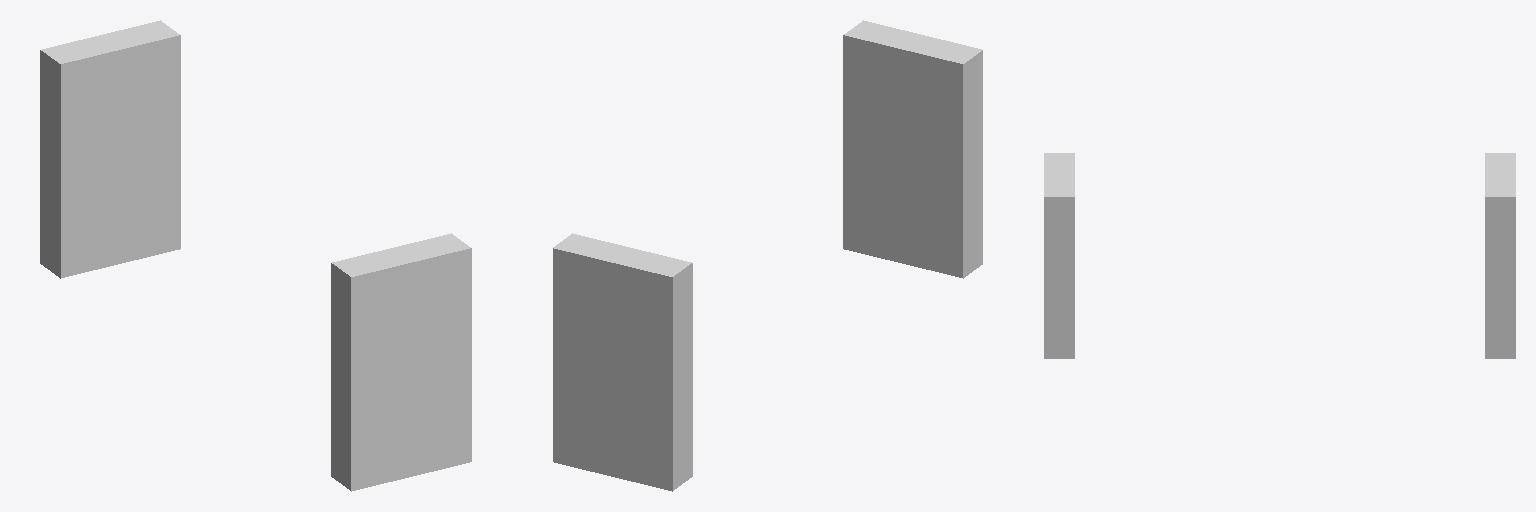
URDF robot description (xarm6):
<?xml version="1.0" encoding="utf-8"?>

<robot name="xarm6">
  <link name="world"/>
  <joint name="world_joint" type="fixed">
    <parent link="world"/>
    <child link="link_base"/>
    <origin rpy="0 0 0" xyz="0 0 0"/>
  </joint>
 
  <material name="Black">
    <color rgba="0.0 0.0 0.0 1.0"/>
  </material>
  <material name="Red">
    <color rgba="0.8 0.0 0.0 1.0"/>
  </material>
  <material name="White">
    <color rgba="1.0 1.0 1.0 1.0"/>
  </material>
  <material name="Silver">
    <color rgba="0.753 0.753 0.753 1.0"/>
  </material>
  <material name="MaterialFromMTL">
    <color rgba="0.8 0.8 0.8 1.0"/>
    <specular rgb="0.8 0.8 0.8"/>
    <ambient rgb="0.8 0.8 0.8"/>
    <diffuse rgb="0.8 0.8 0.8"/>
  </material>
  <material name="MaterialFromMTL2">
    <color rgba="0.8 0.8 0.8 1.0"/>
    <specular rgb="0.5 0.5 0.5"/>
    <ambient rgb="1.0 1.0 1.0"/>
    <diffuse rgb="0.8 0.8 0.8"/>
  </material>
  
  <link name="link_base">
    <visual>
      <geometry>
        <mesh filename="visual/base.stl"/>
      </geometry>
      <origin rpy="0 0 0" xyz="0 0 0"/>
      <material name="MaterialFromMTL"/>
    </visual>
    <collision>
      <geometry>
        <mesh filename="collision/base_vhacd.obj"/>
      </geometry>
      <origin rpy="0 0 0" xyz="0 0 0"/>
    </collision>
    <inertial>
      <origin rpy="0 0 0" xyz="0.0 0.0 0.09103"/>
      <mass value="2.7"/>
      <inertia ixx="0.00494875" ixy="-3.5E-06" ixz="1.25E-05" iyy="0.00494174" iyz="1.67E-06" izz="0.002219"/>
    </inertial>
  </link>
 
  <link name="link1">
    <visual>
      <geometry>
        <mesh filename="visual/link1.stl"/>
      </geometry>
      <origin rpy="0 0 0" xyz="0 0 0"/>
      <material name="MaterialFromMTL"/>
    </visual>
    <collision>
      <geometry>
        <mesh filename="collision/link1_vhacd.obj"/>
      </geometry>
      <origin rpy="0 0 0" xyz="0 0 0"/>
    </collision>
    <inertial>
      <origin rpy="0 0 0" xyz="-0.002 0.02692 -0.01332"/>
      <mass value="2.16"/>
      <inertia ixx="0.00539427" ixy="1.095E-05" ixz="1.635E-06" iyy="0.0048979" iyz="0.000793" izz="0.00311573"/>
    </inertial>
  </link>

  <joint name="joint1" type="revolute">
    <safety_controller k_position="100.0" k_velocity="40.0" soft_lower_limit="-6.28318530718" soft_upper_limit="6.28318530718"/>
    <parent link="link_base"/>
    <child link="link1"/>
    <origin rpy="0 0 0" xyz="0 0 0.267"/>
    <axis xyz="0 0 1"/>
    <limit effort="50.0" lower="-6.28318530718" upper="6.28318530718" velocity="3.14"/>
    <dynamics damping="1.0" friction="1.0"/>
  </joint>
  
  <link name="link2">
    <visual>
      <geometry>
        <mesh filename="visual/link2.stl"/>
      </geometry>
      <origin rpy="0 0 0" xyz="0 0 0"/>
      <material name="MaterialFromMTL"/>
    </visual>
    <collision>
      <geometry>
        <mesh filename="collision/link2_vhacd2.obj"/>
      </geometry>
      <origin rpy="0 0 0" xyz="0 0 0"/>
    </collision>
    <inertial>
      <origin rpy="0 0 0" xyz="0.03531 -0.21398 0.03386"/>
      <mass value="1.71"/>
      <inertia ixx="0.0248674" ixy="-0.00430651" ixz="-0.00067797" iyy="0.00485548" iyz="0.00457245" izz="0.02387827"/>
    </inertial>
  </link>
  
  <joint name="joint2" type="revolute">
    <safety_controller k_position="100.0" k_velocity="40.0" soft_lower_limit="-2.059" soft_upper_limit="2.059"/>
    <parent link="link1"/>
    <child link="link2"/>
    <origin rpy="-1.5708 0 0" xyz="0 0 0"/>
    <axis xyz="0 0 1"/>
    <limit effort="50.0" lower="-2.059" upper="2.0944" velocity="3.14"/>
    <dynamics damping="1.0" friction="1.0"/>
  </joint>
  
  <link name="link3">
    <visual>
      <geometry>
        <mesh filename="visual/link3.stl"/>
      </geometry>
      <origin rpy="0 0 0" xyz="0 0 0"/>
      <material name="MaterialFromMTL"/>
    </visual>
    <collision>
      <geometry>
        <mesh filename="collision/link3_vhacd.obj"/>
      </geometry>
      <origin rpy="0 0 0" xyz="0 0 0"/>
    </collision>
    <inertial>
      <origin rpy="0 0 0" xyz="0.06781 0.10749 0.01457"/>
      <mass value="1.384"/>
      <inertia ixx="0.0053694" ixy="0.0014185" ixz="-0.00092094" iyy="0.0032423" iyz="-0.00169178" izz="0.00501731"/>
    </inertial>
  </link>
  
  <joint name="joint3" type="revolute">
    <safety_controller k_position="100.0" k_velocity="40.0" soft_lower_limit="-3.8" soft_upper_limit="0.19198"/>
    <parent link="link2"/>
    <child link="link3"/>
    <origin rpy="0 0 0" xyz="0.0535 -0.2845 0"/>
    <axis xyz="0 0 1"/>
    <limit effort="32.0" lower="-3.8" upper="0.19198" velocity="3.14"/>
    <dynamics damping="1.0" friction="1.0"/>
  </joint>
  
  <link name="link4">
    <visual>
      <geometry>
        <mesh filename="visual/link4.stl"/>
      </geometry>
      <origin rpy="0 0 0" xyz="0 0 0"/>
      <material name="MaterialFromMTL"/>
    </visual>
    <collision>
      <geometry>
        <mesh filename="collision/link4_vhacd.obj"/>
      </geometry>
      <origin rpy="0 0 0" xyz="0 0 0"/>
    </collision>
    <inertial>
      <origin rpy="0 0 0" xyz="-0.00021 0.02578 -0.02538"/>
      <mass value="1.115"/>
      <inertia ixx="0.00439263" ixy="5.028E-05" ixz="1.374E-05" iyy="0.0040077" iyz="0.00045338" izz="0.00110321"/>
    </inertial>
  </link>
  
  <joint name="joint4" type="revolute">
    <safety_controller k_position="100.0" k_velocity="40.0" soft_lower_limit="-6.28318530718" soft_upper_limit="6.28318530718"/>
    <parent link="link3"/>
    <child link="link4"/>
    <origin rpy="-1.5708 0 0" xyz="0.0775 0.3425 0"/>
    <axis xyz="0 0 1"/>
    <limit effort="32.0" lower="-6.28318530718" upper="6.28318530718" velocity="3.14"/>
    <dynamics damping="1.0" friction="1.0"/>
  </joint>
  
  <link name="link5">
    <visual>
      <geometry>
        <mesh filename="visual/link5.stl"/>
      </geometry>
      <origin rpy="0 0 0" xyz="0 0 0"/>
      <material name="MaterialFromMTL"/>
    </visual>
    <collision>
      <geometry>
        <mesh filename="collision/link5_vhacd.obj"/>
      </geometry>
      <origin rpy="0 0 0" xyz="0 0 0"/>
    </collision>
    <inertial>
      <origin rpy="0 0 0" xyz="0.05428 0.01781 0.00543"/>
      <mass value="1.275"/>
      <inertia ixx="0.001202758" ixy="0.000492428" ixz="-0.00039147" iyy="0.0022876" iyz="-1.235E-04" izz="0.0026866"/>
    </inertial>
  </link>
  
  <joint name="joint5" type="revolute">
    <safety_controller k_position="100.0" k_velocity="40.0" soft_lower_limit="-1.69297" soft_upper_limit="3.14159265359"/>
    <parent link="link4"/>
    <child link="link5"/>
    <origin rpy="1.5708 0 0" xyz="0 0 0"/>
    <axis xyz="0 0 1"/>
    <limit effort="32.0" lower="-1.69297" upper="3.14159265359" velocity="3.14"/>
    <dynamics damping="1.0" friction="1.0"/>
  </joint>
  
  <link name="link6">
    <visual>
      <geometry>
        <mesh filename="visual/link6.stl"/>
      </geometry>
      <origin rpy="0 0 0" xyz="0 0 0"/>
      <material name="Silver"/>
    </visual>
    <collision>
      <geometry>
        <mesh filename="visual/link6.stl"/>
      </geometry>
      <origin rpy="0 0 0" xyz="0 0 0"/>
    </collision>
    <inertial>
      <origin rpy="0 0 0" xyz="0 0.00064 -0.00952"/>
      <mass value="0.1096"/>
      <inertia ixx="4.5293E-05" ixy="0" ixz="0" iyy="4.8111E-05" iyz="0" izz="7.9715E-05"/>
    </inertial>
  </link>
  
  <joint name="joint6" type="revolute">
    <safety_controller k_position="100.0" k_velocity="40.0" soft_lower_limit="-6.28318530718" soft_upper_limit="6.28318530718"/>
    <parent link="link5"/>
    <child link="link6"/>
    <origin rpy="-1.5708 0 0" xyz="0.076 0.097 0"/>
    <axis xyz="0 0 1"/>
    <limit effort="20.0" lower="-6.28318530718" upper="6.28318530718" velocity="3.14"/>
    <dynamics damping="1.0" friction="1.0"/>
  </joint>
  
  <link name="camera_link" />
  <joint name="camera_link_joint" type="fixed">
    <parent link="link6"/>
    <child link="camera_link"/>
    <origin xyz="0.05 0 0" rpy="3.141592653589793 -0.0 1.5707963267948966"/>
  </joint>


  <joint name="gripper_fix" type="fixed">
    <parent link="link6"/>
    <child link="robotiq_arg2f_base_link"/>
    <origin rpy="0 0 0" xyz="0 0 0"/>
  </joint>
  

  <link name="eef">
    <!-- <visual>
      <origin xyz="0 0 0" rpy="0 0 0"/>
      <geometry>
        <sphere radius="0.005"/>
      </geometry>
      <material name="red_transparent">
        <color rgba="1 0 0 0.5"/>
      </material>
    </visual> -->
  </link>

  <joint name="eef_joint" type="fixed">
    <parent link="robotiq_arg2f_base_link"/>
    <child link="eef"/>
    <origin xyz="0 0 0.15" rpy="0 0 0"/>
  </joint>

  <link name="robotiq_arg2f_base_link">
    <inertial>
      <origin rpy="0 0 0" xyz="8.625E-08 -4.6583E-06 0.03145"/>
      <mass value="0.22652"/>
      <inertia ixx="0.00020005" ixy="-4.2442E-10" ixz="-2.9069E-10" iyy="0.00017832" iyz="-3.4402E-08" izz="0.00013478"/>
    </inertial>
    <visual>
      <origin rpy="1.5708 0 0" xyz="0 0 0"/>  <!-- [author]: <origin rpy="0 0 0" xyz="0 0 0"/>-->
      <geometry>
        <mesh filename="meshes_robotiq/visual/robotiq_arg2f_85_base_link.dae" scale="0.001 0.001 0.001"/>
      </geometry>
      <material name="gray">
        <color rgba="0.1 0.1 0.1 1"/>
      </material>
    </visual>
    <collision>
      <origin rpy="0 0 0" xyz="0 0 0"/>  <!-- [author]: <origin rpy="0 0 0" xyz="0 0 0"/>-->
      <geometry>
        <mesh filename="meshes_robotiq/collision/robotiq_arg2f_base_link.stl"/>
      </geometry>
    </collision>
  </link>

  <link name="left_outer_knuckle">
    <!--<inertial>
        <origin xyz="-0.000200000000003065 0.0199435877845359 0.0292245259211331" rpy="0 0 0" />
        <mass value="0.00853198276973456" />
        <inertia ixx="2.89328108496468E-06" ixy="-1.57935047237397E-19" ixz="-1.93980378593255E-19" iyy="1.86719750325683E-06" iyz="-1.21858577871576E-06" izz="1.21905238907251E-06" />
        </inertial> -->
    <visual>
      <origin rpy="0 0 0" xyz="0 0 0"/>
      <geometry>
        <mesh filename="meshes_robotiq/visual/robotiq_arg2f_85_outer_knuckle.dae" scale="0.001 0.001 0.001"/>
      </geometry>
      <material name="outer_knuckle">
        <color rgba="0.792156862745098 0.819607843137255 0.933333333333333 1"/>
      </material>
    </visual>
    <collision>
      <origin rpy="0 0 0" xyz="0 0 0"/>
      <geometry>
        <mesh filename="meshes_robotiq/collision/robotiq_arg2f_85_outer_knuckle.dae" scale="0.001 0.001 0.001"/>
      </geometry>
    </collision>
  </link>

  <link name="left_outer_finger">
    <!--<inertial>
        <origin xyz="0.00030115855001899 0.0373907951953854 -0.0208027427000385" rpy="0 0 0" />
        <mass value="0.022614240507152" />
        <inertia ixx="1.52518312458174E-05" ixy="9.76583423954399E-10" ixz="-5.43838577022588E-10" iyy="6.17694243867776E-06" iyz="6.78636130740228E-06" izz="1.16494917907219E-05" />
        </inertial> -->
    <visual>
      <origin rpy="1.5708 0 0" xyz="0 0 0"/>
      <geometry>
        <mesh filename="meshes_robotiq/visual/robotiq_arg2f_85_outer_finger.dae" scale="0.001 0.001 0.001"/>
      </geometry>
      <material name="gray">
        <color rgba="0.1 0.1 0.1 1"/>
      </material>
    </visual>
    <collision>
      <origin rpy="0 0 0" xyz="0 0 0"/>
      <geometry>
        <mesh filename="meshes_robotiq/collision/robotiq_arg2f_85_outer_finger.dae" scale="0.001 0.001 0.001"/>
      </geometry>
    </collision>
  </link>

  <link name="left_inner_finger">
    <!--<inertial>
        <origin xyz="0.000299999999999317 0.0160078233491243 -0.0136945669206257" rpy="0 0 0" />
        <mass value="0.0104003125914103" />
        <inertia ixx="2.71909453810972E-06" ixy="1.35402465472579E-21" ixz="-7.1817349065269E-22" iyy="7.69100314106116E-07" iyz="6.74715432769696E-07" izz="2.30315190420171E-06" />
        </inertial> -->
    <visual>
      <origin rpy="1.5708  0 0" xyz="0 0 0"/>  <!-- [author]: <origin rpy="0 0 0" xyz="0 0 0"/>-->
      <geometry>
        <mesh filename="meshes_robotiq/visual/robotiq_arg2f_85_inner_finger.dae" scale="0.001 0.001 0.001"/>
      </geometry>
      <material name="gray">
        <color rgba="0.1 0.1 0.1 1"/>
      </material>
    </visual>
    <collision>
      <origin rpy="0  0 0" xyz="0 0 0"/><!-- [author]: <origin rpy="0 0 0" xyz="0 0 0"/>-->
      <geometry>
        <mesh filename="meshes_robotiq/collision/robotiq_arg2f_85_inner_finger.dae" scale="0.001 0.001 0.001"/>
      </geometry>
    </collision>
  </link>

  <link name="left_inner_finger_pad">
    <visual>
      <origin rpy="0 0 0" xyz="0 0 0"/>
      <geometry>
        <box size="0.022 0.00635 0.0375"/>
      </geometry>
      <material name="white">
        <color rgba="0.9 0.9 0.9 1"/>
      </material>
    </visual>
    <collision>
      <origin rpy="0 0 0" xyz="0 0 0"/>
      <geometry>
        <box size="0.022 0.00635 0.0375"/>
      </geometry>
    </collision>
  </link>

  <link name="left_inner_knuckle">
    <!--<inertial>
        <origin xyz="0.000123011831763771 0.0507850843201817 0.00103968640075166" rpy="0 0 0" />
       <mass value="0.0271177346495152" />
        <inertia ixx="2.61910379223783E-05" ixy="-2.43616858946494E-07" ixz="-6.37789906117123E-09" iyy="2.8270243746167E-06" iyz="-5.37200748039765E-07" izz="2.83695868220296E-05" />
        </inertial> -->
    <visual>
      <origin rpy="1.5708 0 0" xyz="0 0 0"/> 
      <geometry>
        <mesh filename="meshes_robotiq/visual/robotiq_arg2f_85_inner_knuckle.dae" scale="0.001 0.001 0.001"/>
      </geometry>
      <material name="gray">
        <color rgba="0.1 0.1 0.1 1"/>
      </material>
    </visual>
    <collision>
      <origin rpy="0 0 0" xyz="0 0 0"/>
      <geometry>
        <mesh filename="meshes_robotiq/collision/robotiq_arg2f_85_inner_knuckle.dae" scale="0.001 0.001 0.001"/>
      </geometry>
    </collision>
  </link>

  <link name="right_outer_knuckle">
    <!--<inertial>
        <origin xyz="-0.000200000000003065 0.0199435877845359 0.0292245259211331" rpy="0 0 0" />
        <mass value="0.00853198276973456" />
        <inertia ixx="2.89328108496468E-06" ixy="-1.57935047237397E-19" ixz="-1.93980378593255E-19" iyy="1.86719750325683E-06" iyz="-1.21858577871576E-06" izz="1.21905238907251E-06" />
        </inertial> -->
    <visual>
      <origin rpy="0 0 0" xyz="0 0 0"/>
      <geometry>
        <mesh filename="meshes_robotiq/visual/robotiq_arg2f_85_outer_knuckle.dae" scale="0.001 0.001 0.001"/>
      </geometry>
      <material name="">
        <color rgba="0.792156862745098 0.819607843137255 0.933333333333333 1"/>
      </material>
    </visual>
    <collision>
      <origin rpy="0 0 0" xyz="0 0 0"/>
      <geometry>
        <mesh filename="meshes_robotiq/collision/robotiq_arg2f_85_outer_knuckle.dae" scale="0.001 0.001 0.001"/>
      </geometry>
    </collision>
  </link>

  <link name="right_outer_finger">
    <!--<inertial>
        <origin xyz="0.00030115855001899 0.0373907951953854 -0.0208027427000385" rpy="0 0 0" />
        <mass value="0.022614240507152" />
        <inertia ixx="1.52518312458174E-05" ixy="9.76583423954399E-10" ixz="-5.43838577022588E-10" iyy="6.17694243867776E-06" iyz="6.78636130740228E-06" izz="1.16494917907219E-05" />
        </inertial> -->
    <visual>
      <origin rpy="1.5708 0 0" xyz="0 0 0"/>
      <geometry>
        <mesh filename="meshes_robotiq/visual/robotiq_arg2f_85_outer_finger.dae" scale="0.001 0.001 0.001"/>
      </geometry>
      <material name="gray">
        <color rgba="0.1 0.1 0.1 1"/>
      </material>
    </visual>
    <collision>
      <origin rpy="0 0 0" xyz="0 0 0"/>
      <geometry>
        <mesh filename="meshes_robotiq/collision/robotiq_arg2f_85_outer_finger.dae" scale="0.001 0.001 0.001"/>
      </geometry>
    </collision>
  </link>

  <link name="right_inner_finger">
    <!--<inertial>
        <origin xyz="0.000299999999999317 0.0160078233491243 -0.0136945669206257" rpy="0 0 0" />
        <mass value="0.0104003125914103" />
        <inertia ixx="2.71909453810972E-06" ixy="1.35402465472579E-21" ixz="-7.1817349065269E-22" iyy="7.69100314106116E-07" iyz="6.74715432769696E-07" izz="2.30315190420171E-06" />
        </inertial> -->
    <visual>
      <origin rpy="1.5708 0 0" xyz="0 0 0"/>
      <geometry>
        <mesh filename="meshes_robotiq/visual/robotiq_arg2f_85_inner_finger.dae" scale="0.001 0.001 0.001"/>
      </geometry>
      <material name="gray">
        <color rgba="0.1 0.1 0.1 1"/>
      </material>
    </visual>
    <collision>
      <origin rpy="0 0 0" xyz="0 0 0"/>
      <geometry>
        <mesh filename="meshes_robotiq/collision/robotiq_arg2f_85_inner_finger.dae" scale="0.001 0.001 0.001"/>
      </geometry>
    </collision>
  </link>

  <link name="right_inner_finger_pad">
    <visual>
      <origin rpy="0 0 0" xyz="0 0 0"/>
      <geometry>
        <box size="0.022 0.00635 0.0375"/>
      </geometry>
      <material name="white">
        <color rgba="0.9 0.9 0.9 1"/>
      </material>
    </visual>
    <collision>
      <origin rpy="0 0 0" xyz="0 0 0"/>
      <geometry>
        <box size="0.022 0.00635 0.0375"/>
      </geometry>
    </collision>
  </link>

  <link name="right_inner_knuckle">
    <!--<inertial>
        <origin xyz="0.000123011831763771 0.0507850843201817 0.00103968640075166" rpy="0 0 0" />
       <mass value="0.0271177346495152" />
        <inertia ixx="2.61910379223783E-05" ixy="-2.43616858946494E-07" ixz="-6.37789906117123E-09" iyy="2.8270243746167E-06" iyz="-5.37200748039765E-07" izz="2.83695868220296E-05" />
        </inertial> -->
    <visual>
      <origin rpy="1.5708 0 0" xyz="0 0 0"/>
      <geometry>
        <mesh filename="meshes_robotiq/visual/robotiq_arg2f_85_inner_knuckle.dae" scale="0.001 0.001 0.001"/>
      </geometry>
      <material name="gray">
        <color rgba="0.1 0.1 0.1 1"/>
      </material>
    </visual>
    <collision>
      <origin rpy="0 0 0" xyz="0 0 0"/>
      <geometry>
        <mesh filename="meshes_robotiq/collision/robotiq_arg2f_85_inner_knuckle.dae" scale="0.001 0.001 0.001"/>
      </geometry>
    </collision>
  </link>


   <!--[author]: I don't know if we need to modify the origin is 1.5708 0 0, but it works. -->

  <joint name="left_outer_knuckle_joint" type="revolute">
    <origin rpy="0 0 3.14159265359" xyz="0 -0.0306011 0.054904"/>
    <parent link="robotiq_arg2f_base_link"/>
    <child link="left_outer_knuckle"/>
    <axis xyz="1 0 0"/>
    <limit effort="1000" lower="0" upper="0.81" velocity="2.0"/>
  </joint>

  <joint name="left_outer_finger_joint" type="fixed">
    <origin rpy="0 0 0" xyz="0 0.0315 -0.0041"/>
    <parent link="left_outer_knuckle"/>
    <child link="left_outer_finger"/>
    <axis xyz="1 0 0"/>
  </joint>
  
  <joint name="left_inner_knuckle_joint" type="revolute">
    <origin rpy="0 0 3.14159265359" xyz="0 -0.0127 0.06142"/>
    <parent link="robotiq_arg2f_base_link"/>
    <child link="left_inner_knuckle"/>
    <axis xyz="1 0 0"/>
    <limit effort="1000" lower="0" upper="0.8757" velocity="2.0"/>
  </joint>
  
  <joint name="left_inner_finger_joint" type="revolute">
    <origin rpy="0 0 0" xyz="0 0.0061 0.0471"/>
    <parent link="left_outer_finger"/>
    <child link="left_inner_finger"/>
    <axis xyz="1 0 0"/>
    <limit effort="1000" lower="-0.8757" upper="0" velocity="2.0"/>
  </joint>
  
  <joint name="left_inner_finger_pad_joint" type="fixed">
    <origin rpy="0 0 0" xyz="0 -0.0220203446692936 0.03242"/>
    <parent link="left_inner_finger"/>
    <child link="left_inner_finger_pad"/>
    <axis xyz="0 0 1"/>
  </joint>
  
  <joint name="right_outer_knuckle_joint" type="revolute">
    <origin rpy="0 0 0" xyz="0 0.0306011 0.054904"/>
    <parent link="robotiq_arg2f_base_link"/>
    <child link="right_outer_knuckle"/>
    <axis xyz="1 0 0"/>
    <limit effort="1000" lower="0" upper="0.81" velocity="2.0"/>
  </joint>
  
  <joint name="right_outer_finger_joint" type="fixed">
    <origin rpy="0 0 0" xyz="0 0.0315 -0.0041"/>
    <parent link="right_outer_knuckle"/>
    <child link="right_outer_finger"/>
    <axis xyz="1 0 0"/>
  </joint>
  
  <joint name="right_inner_knuckle_joint" type="revolute">
    <origin rpy="0 0 0.0" xyz="0 0.0127 0.06142"/>
    <parent link="robotiq_arg2f_base_link"/>
    <child link="right_inner_knuckle"/>
    <axis xyz="1 0 0"/>
    <limit effort="1000" lower="0" upper="0.8757" velocity="2.0"/>
  </joint>
  
  <joint name="right_inner_finger_joint" type="revolute">
    <origin rpy="0 0 0" xyz="0 0.0061 0.0471"/>
    <parent link="right_outer_finger"/>
    <child link="right_inner_finger"/>
    <axis xyz="1 0 0"/>
    <limit effort="1000" lower="-0.8757" upper="0" velocity="2.0"/>
  </joint>
  
  <joint name="right_inner_finger_pad_joint" type="fixed">
    <origin rpy="0 0 0" xyz="0 -0.0220203446692936 0.03242"/>
    <parent link="right_inner_finger"/>
    <child link="right_inner_finger_pad"/>
    <axis xyz="0 0 1"/>
  </joint>

</robot>

--- What the picture shows (computed from the rendered views, not written in the file) ---
The picture shows the robot from 3 angles, left to right: view 1: azimuth 30°, elevation 25°; view 2: azimuth 150°, elevation 25°; view 3: azimuth 270°, elevation 25°; orthographic projection.
Model xarm6 with 21 links and 20 joints (12 revolute, 8 fixed), rooted at world, posed all joints at 0.
Visible links, largest first — view 1: left_inner_finger_pad, right_inner_finger_pad; view 2: left_inner_finger_pad, right_inner_finger_pad; view 3: left_inner_finger_pad, right_inner_finger_pad.
Link boxes in pixels (left/top/right/bottom): left_inner_finger_pad: left=40, top=20, right=180, bottom=278; right_inner_finger_pad: left=331, top=233, right=471, bottom=491; left_inner_finger_pad: left=553, top=233, right=692, bottom=491; right_inner_finger_pad: left=843, top=20, right=982, bottom=278; left_inner_finger_pad: left=1485, top=153, right=1515, bottom=358; right_inner_finger_pad: left=1044, top=153, right=1074, bottom=358.
Size in the robot's own frame: 0.022 by 0.0987 by 0.0375 metres.
0 mesh visuals loaded from 12 distinct referenced files (none loaded); not drawn: 16 (reference not matched to a file when rendering).